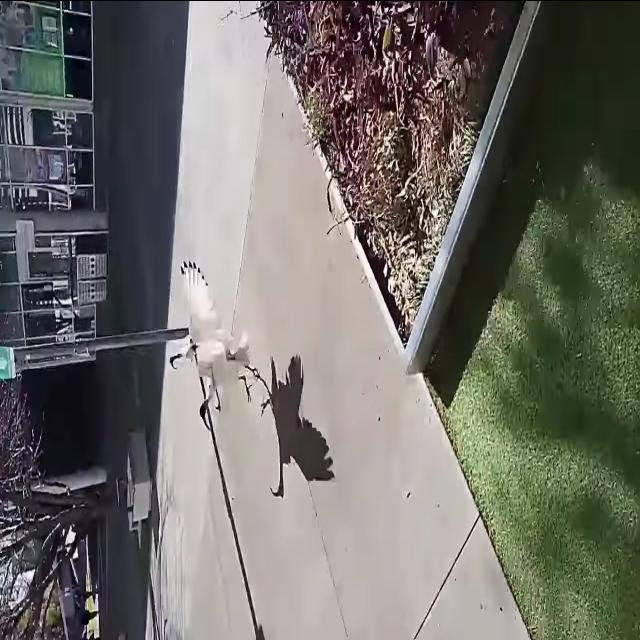Birds-Ibis: (180, 252, 276, 434), (166, 325, 196, 379)
